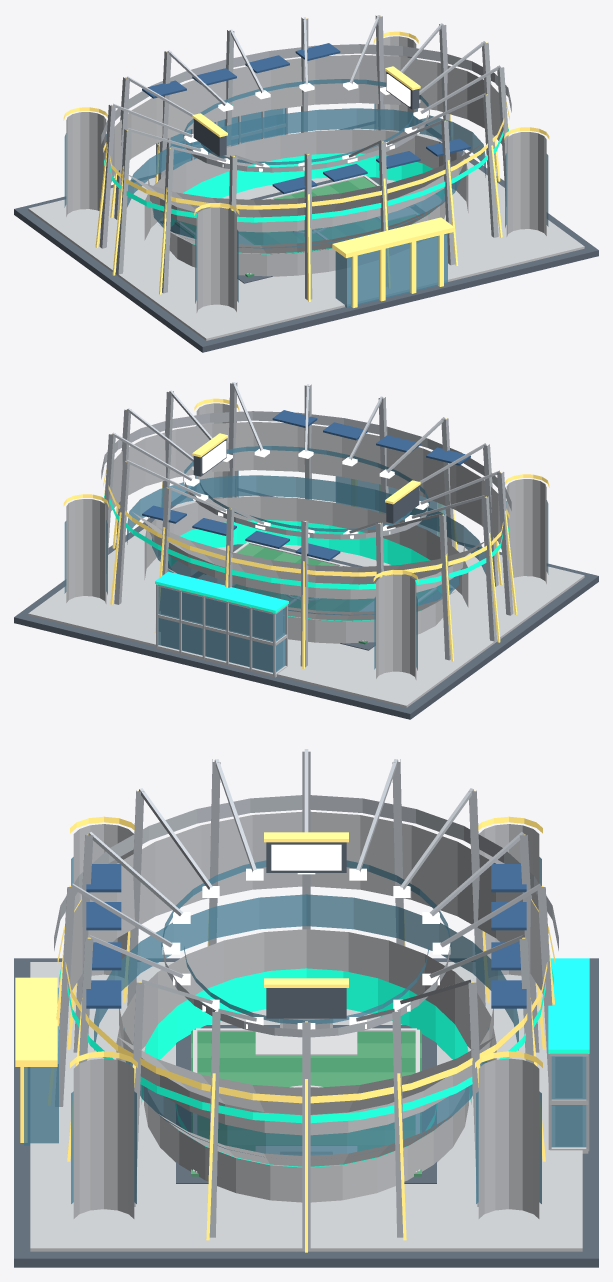
The model's file is stadium_main.glb.
The picture shows the model from 3 angles, top to bottom: view 1: azimuth 30°, elevation 25°; view 2: azimuth 150°, elevation 25°; view 3: azimuth 270°, elevation 25°; orthographic projection. The views are drawn at different scales.
Visible parts, largest first — view 1: stadium_main; view 2: stadium_main; view 3: stadium_main.
Boxes of the visible parts, x1,y1,x2,y2 form: stadium_main: (14,15,598,352); stadium_main: (14,382,598,719); stadium_main: (14,749,598,1267).
Size of the model in its own units: 5.68 by 2.06 by 4.68.
